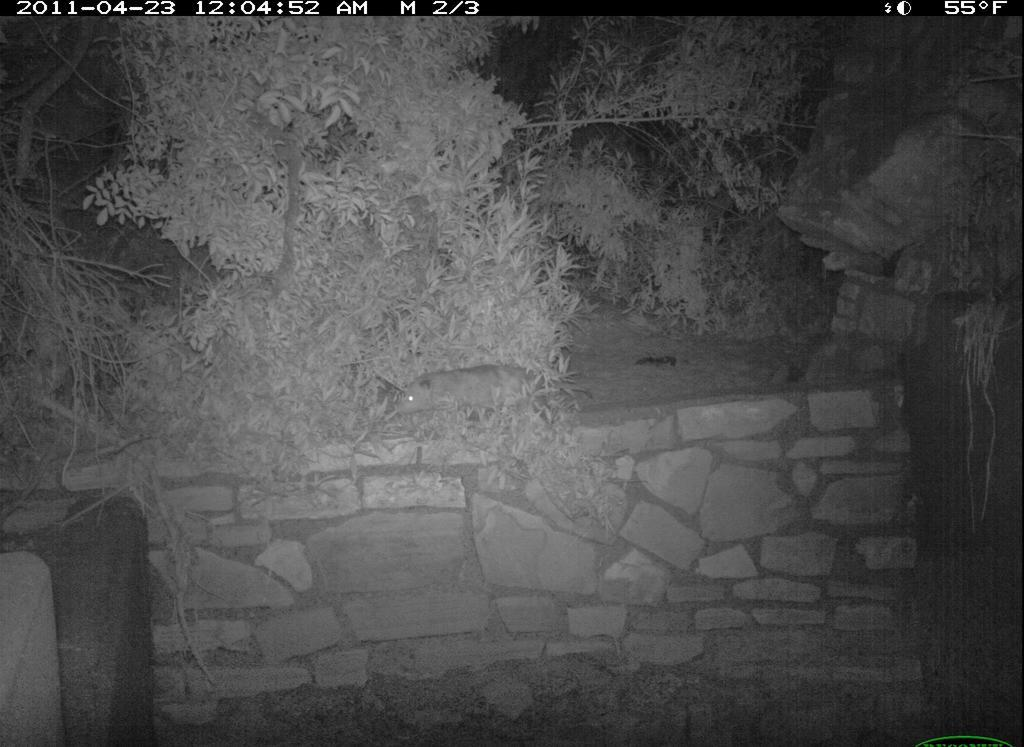opossum: (386, 361, 598, 419)
